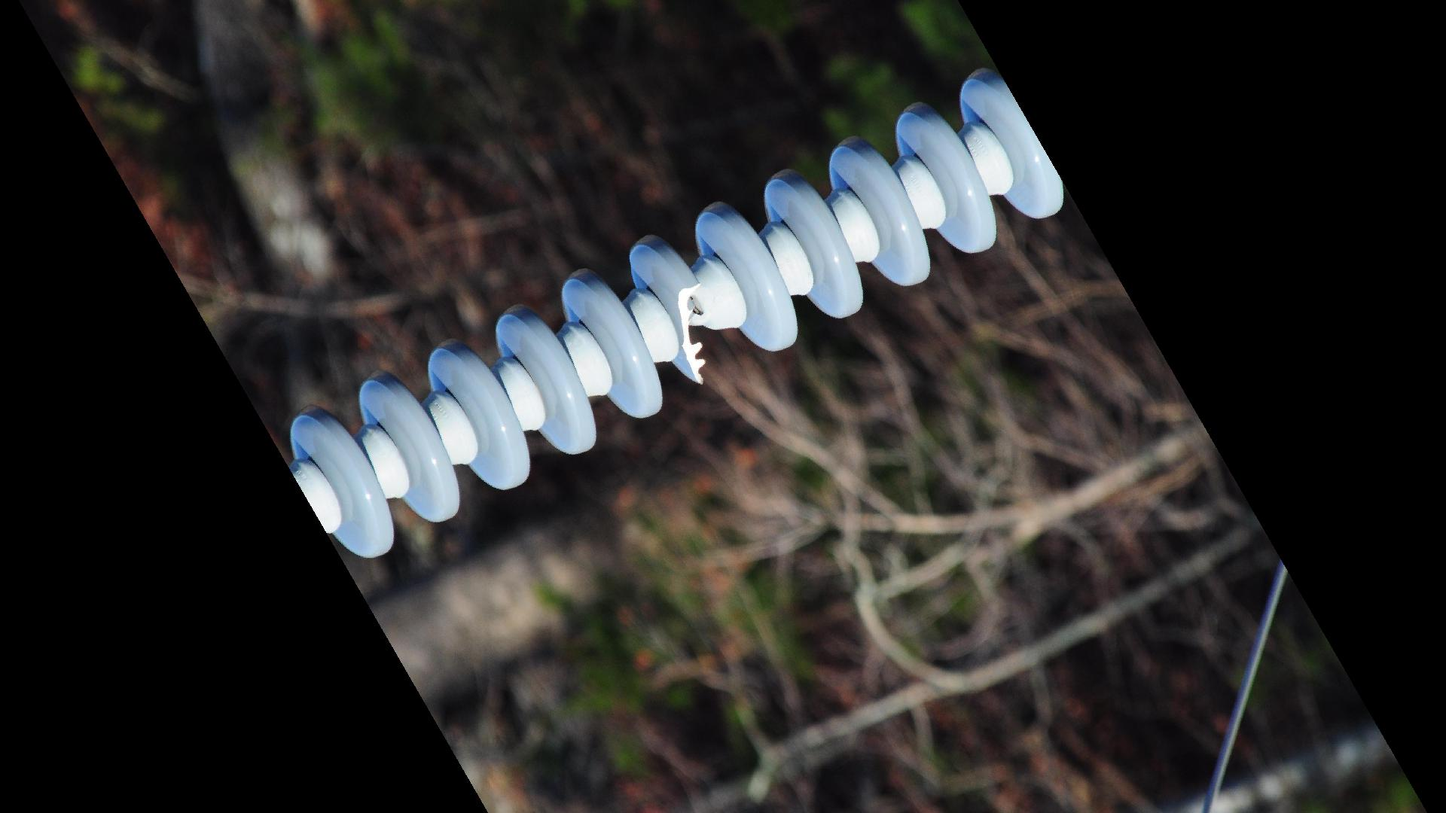insulator: (282, 59, 1069, 561)
insulator_breakage: (668, 273, 718, 391)
